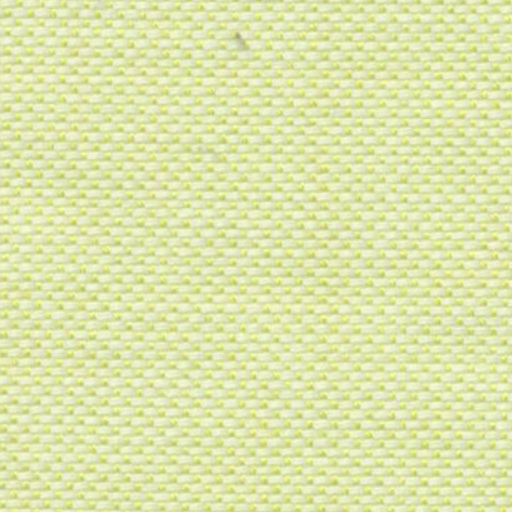WuZi: (216, 24, 256, 58)
